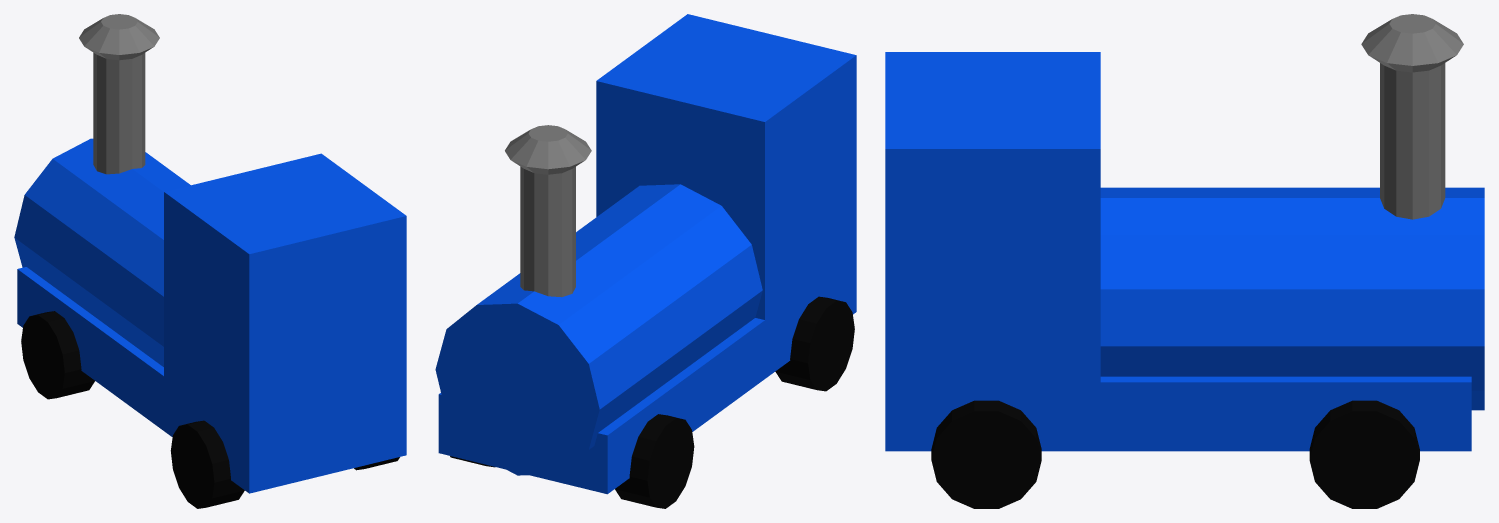
File: Train.fbx
3 renders of one model, left to right at view 1: azimuth 30°, elevation 25°; view 2: azimuth 150°, elevation 25°; view 3: azimuth 270°, elevation 25°, orthographic. The views are drawn at different scales.
Parts seen in each view (by area): view 1: Train, Train_FrontWheel_Left, Train_BackWheel_Left; view 2: Train, Train_FrontWheel_Left, Train_BackWheel_Left; view 3: Train, Train_BackWheel_Right, Train_FrontWheel_Right.
Boxes of the visible parts, bbox=[...] form: Train: bbox=[14, 14, 406, 493]; Train_FrontWheel_Left: bbox=[21, 311, 94, 399]; Train_BackWheel_Left: bbox=[170, 420, 244, 508]; Train: bbox=[435, 14, 856, 494]; Train_FrontWheel_Left: bbox=[615, 414, 694, 508]; Train_BackWheel_Left: bbox=[775, 296, 854, 391]; Train: bbox=[885, 14, 1484, 451]; Train_BackWheel_Right: bbox=[931, 400, 1041, 508]; Train_FrontWheel_Right: bbox=[1309, 400, 1419, 508].
Bounding box in the file's own units: 158 × 266 × 339.
